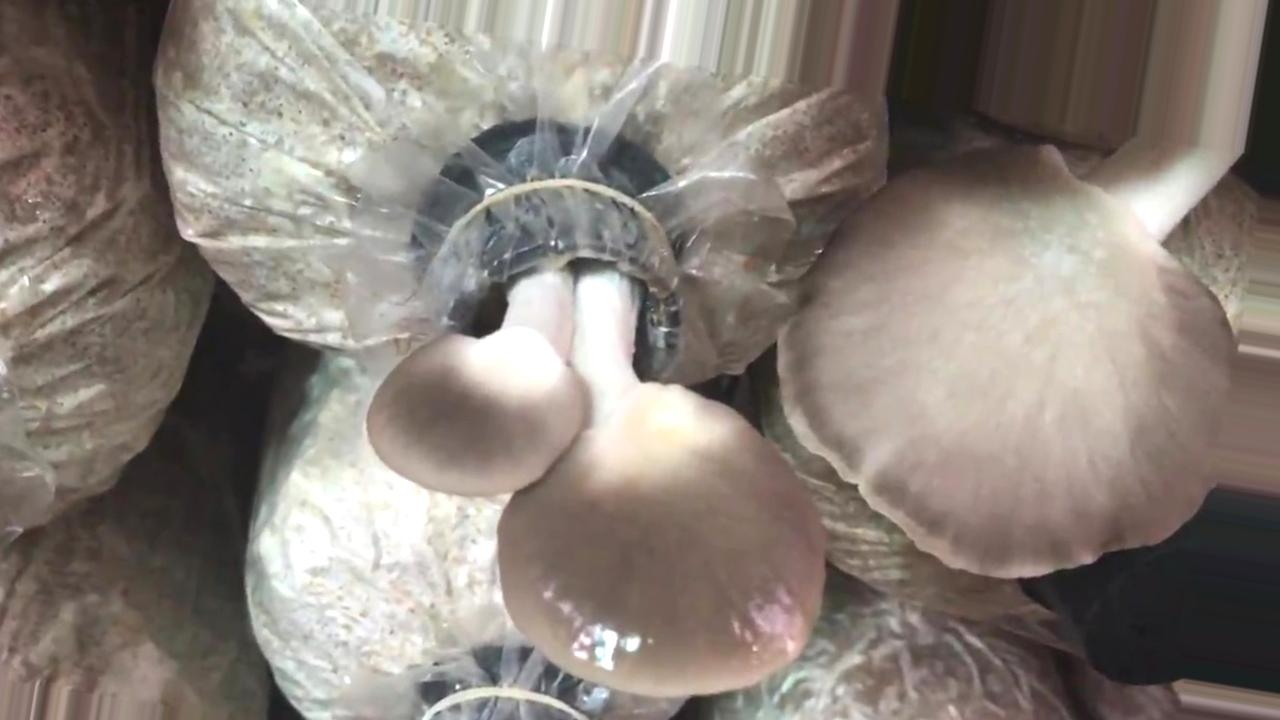nam: (777, 1, 1280, 581), (363, 162, 824, 700)
